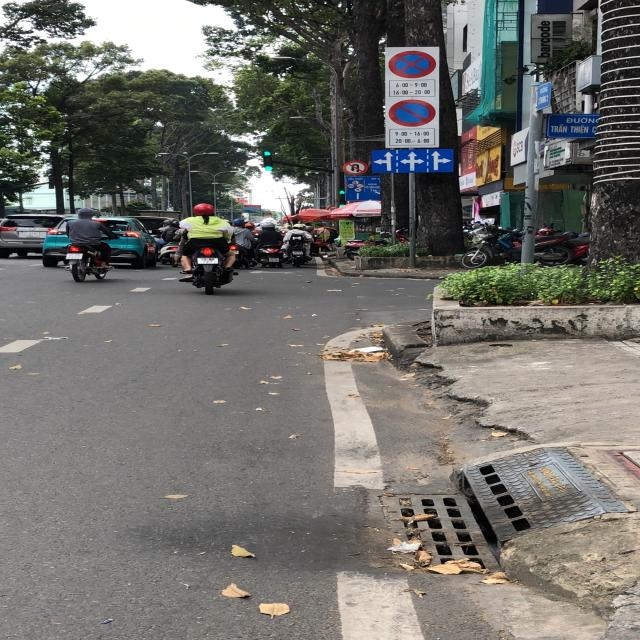Bien bao cam do xe: (388, 97, 440, 129)
Bien bao cam dung xe va do xe: (384, 50, 442, 80)
Bien bao cam quay dau xe: (342, 160, 368, 177)
